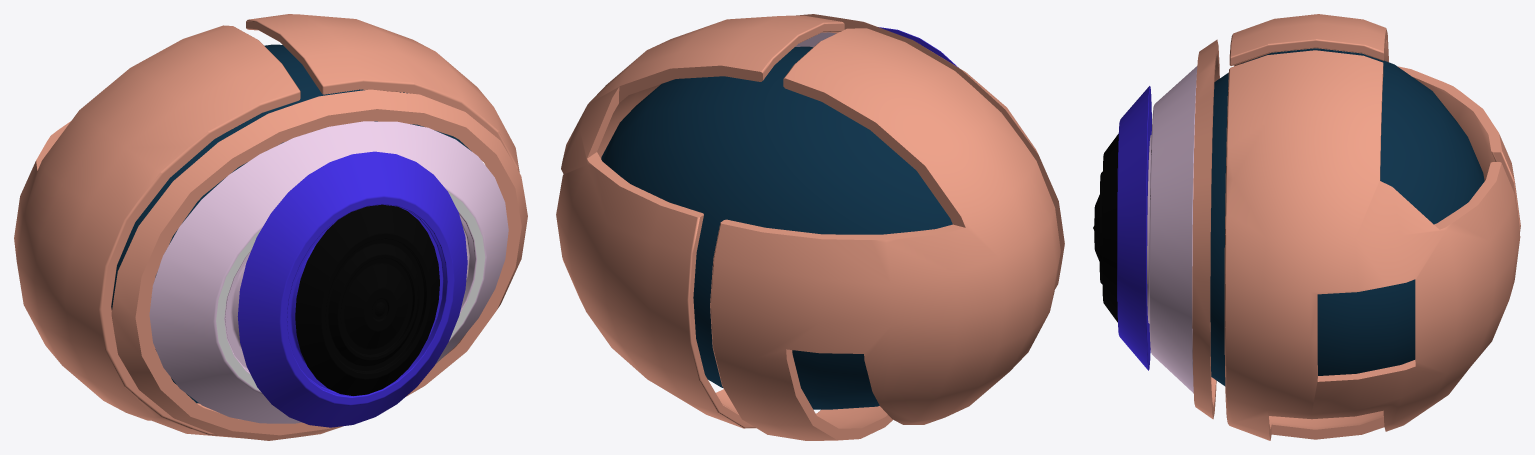
File: eyes.fbx
3 views of the same model, side by side, from view 1: azimuth 30°, elevation 25°; view 2: azimuth 150°, elevation 25°; view 3: azimuth 270°, elevation 25° (orthographic). The views are drawn at different scales.
Visible parts, largest first — view 1: Roundcube.018, Circle.002, Circle.001, Roundcube.019, Circle.003, Roundcube.020; view 2: Roundcube.018, Roundcube.020, Roundcube.019; view 3: Roundcube.018, Roundcube.020, Circle.002, Circle.001, Roundcube.019, Circle.003.
Part boxes in pixels (<box>): Roundcube.018: <box>14,14,519,438</box>; Circle.002: <box>149,121,508,423</box>; Circle.001: <box>237,151,467,427</box>; Roundcube.019: <box>111,89,527,440</box>; Circle.003: <box>295,204,439,395</box>; Roundcube.020: <box>111,44,471,403</box>; Roundcube.018: <box>556,15,1060,440</box>; Roundcube.020: <box>601,46,952,409</box>; Roundcube.019: <box>796,14,1064,288</box>; Roundcube.018: <box>1224,14,1520,440</box>; Roundcube.020: <box>1210,48,1484,386</box>; Circle.002: <box>1147,66,1197,392</box>; Circle.001: <box>1117,86,1151,370</box>; Roundcube.019: <box>1192,39,1219,419</box>; Circle.003: <box>1093,134,1118,322</box>.
Size of the model in its own units: 254 by 199 by 208.
